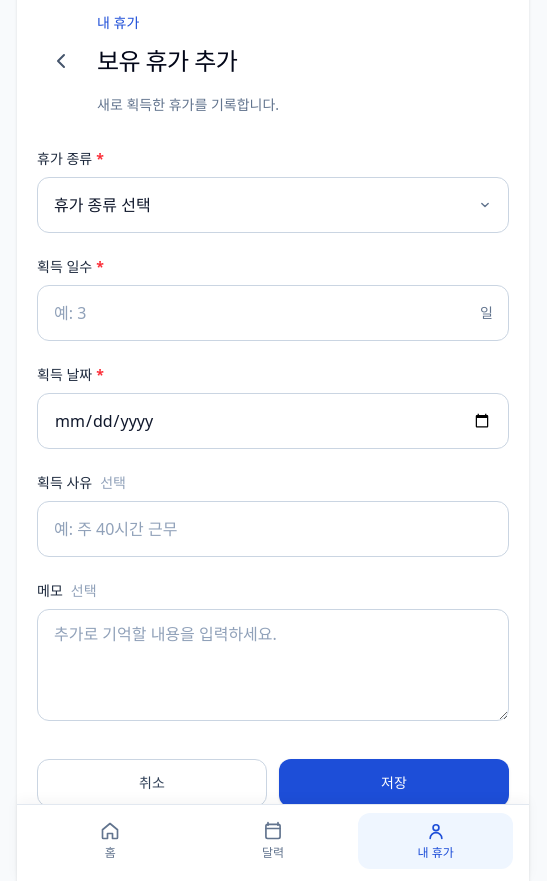
Test: 보유 휴가 등록 흐름 › 필수값이 없으면 이유를 안내하고 저장하지 않는다
The image size is (547, 881).
Click the button "저장" at x=394, y=783, box [279,759,509,807]
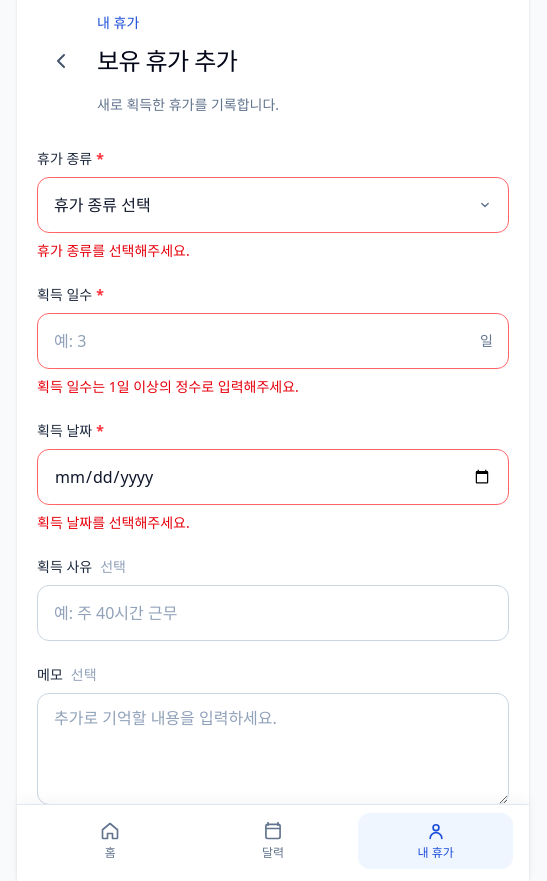
Check: the text "휴가 종류를 선택해주세요." is shown, box [37,241,190,260]
Check: the text "획득 일수는 1일 이상의 정수로 입력해주세요." is shown, box [37,377,299,396]
Check: the text "획득 날짜를 선택해주세요." is shown, box [37,513,190,532]
